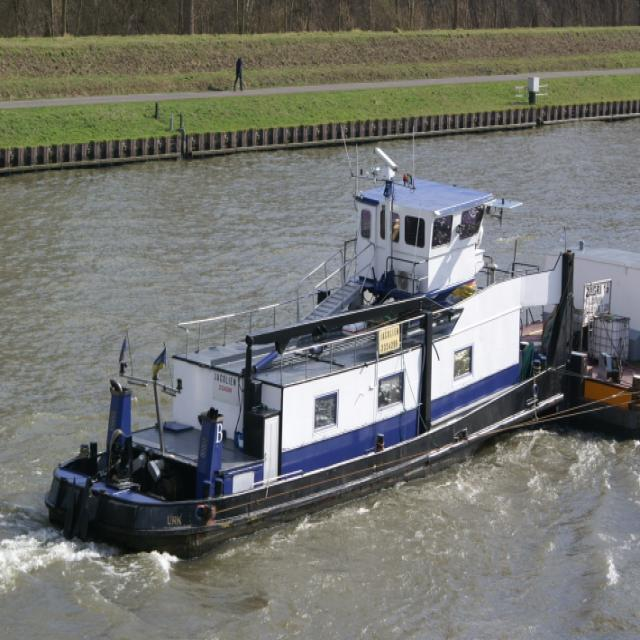tugboat: (43, 145, 583, 573)
